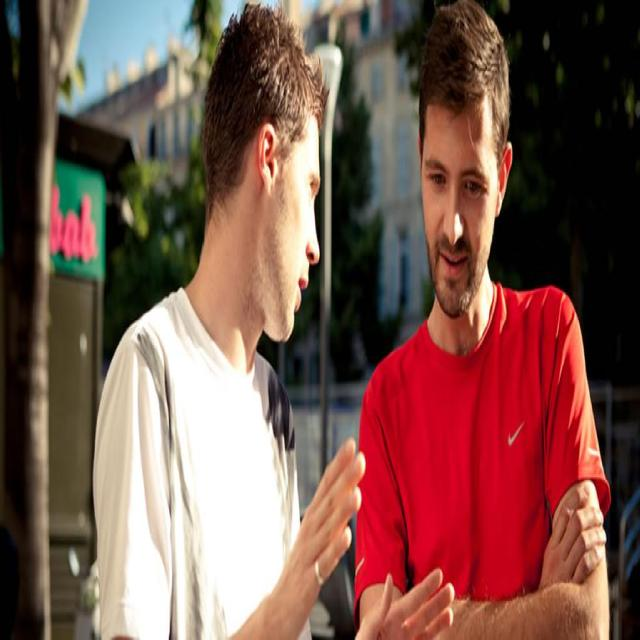Face: (418, 68, 523, 341), (262, 63, 339, 345)
